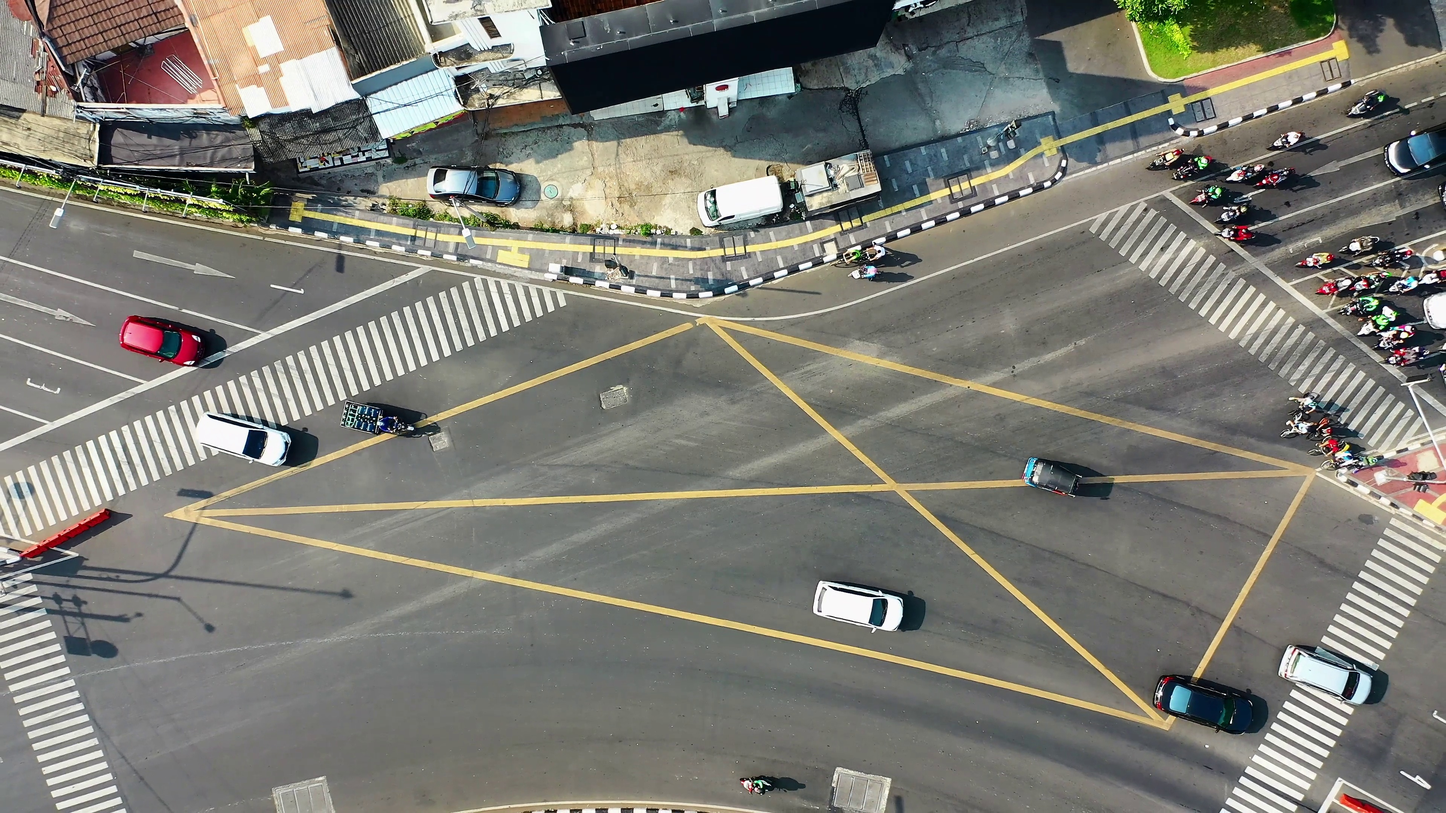Vehicle: (187, 397, 311, 471), (799, 567, 926, 639), (1277, 638, 1377, 710), (1153, 674, 1259, 740), (119, 314, 234, 369), (691, 174, 784, 228), (426, 165, 542, 208), (337, 392, 420, 446), (1384, 125, 1446, 181), (1021, 457, 1084, 500), (1338, 85, 1402, 122), (1171, 150, 1219, 185), (738, 766, 789, 798), (1146, 145, 1192, 177), (1254, 166, 1300, 196), (1265, 121, 1312, 150), (1335, 231, 1387, 257), (1312, 271, 1358, 299), (1358, 310, 1401, 339), (1295, 245, 1337, 274), (1214, 196, 1259, 223), (1373, 240, 1418, 267), (1382, 344, 1429, 369), (1189, 181, 1235, 206), (1370, 327, 1420, 350), (1216, 223, 1265, 246), (1339, 294, 1384, 318), (1226, 160, 1268, 185), (1388, 271, 1424, 299), (1353, 269, 1393, 292)
